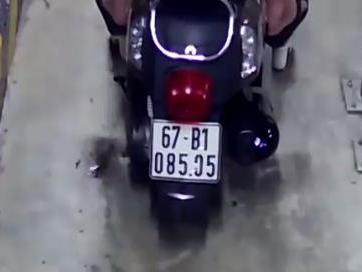num_plate: (148, 119, 221, 182)
